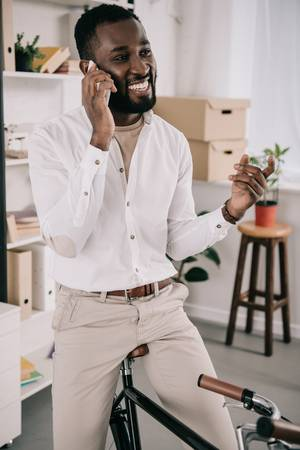F_shirt: (27, 108, 234, 295)
